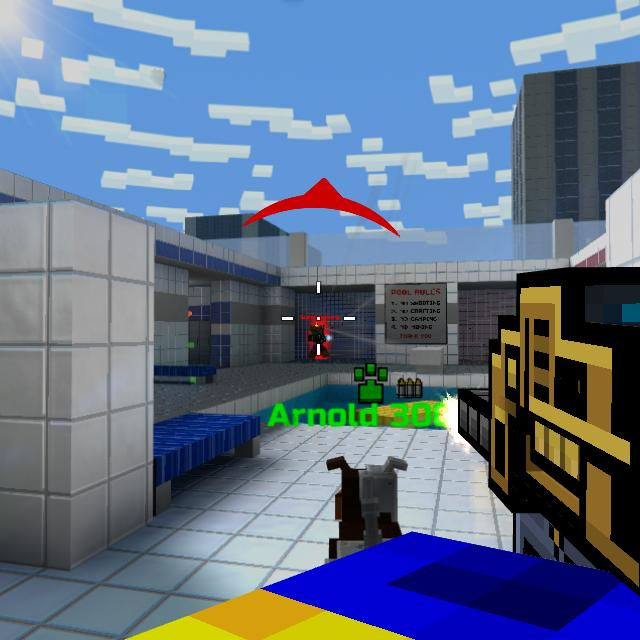Enemy: (307, 325, 331, 357)
